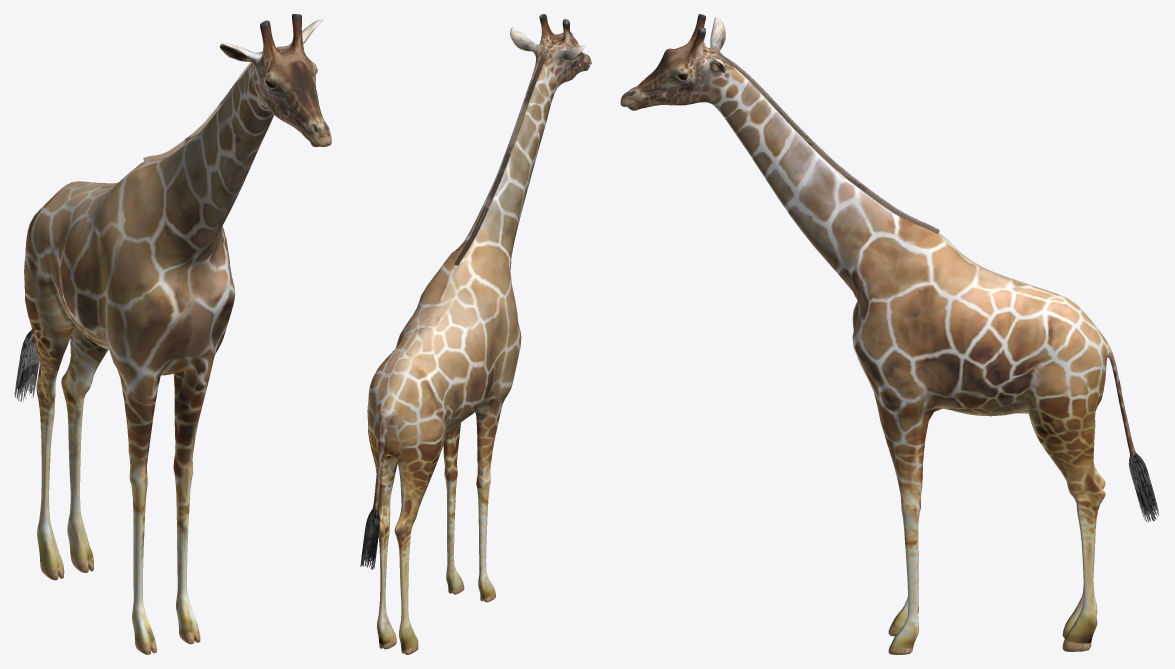
The model's file is giraffe.glb.
3 views of the same model, side by side, from view 1: azimuth 30°, elevation 25°; view 2: azimuth 150°, elevation 25°; view 3: azimuth 270°, elevation 25° (orthographic). The views are drawn at different scales.
Parts seen in each view (by area): view 1: Mesh_GiraffeMiddlePoly; view 2: Mesh_GiraffeMiddlePoly; view 3: Mesh_GiraffeMiddlePoly.
Part boxes in pixels (box(x1,y1,x2,y2)): Mesh_GiraffeMiddlePoly: box(14, 14, 331, 654); Mesh_GiraffeMiddlePoly: box(360, 14, 591, 654); Mesh_GiraffeMiddlePoly: box(620, 14, 1158, 654).
Size of the model in its own units: 0.5957 by 3.51 by 2.76.
Materials: 3 (3 with a texture image).
